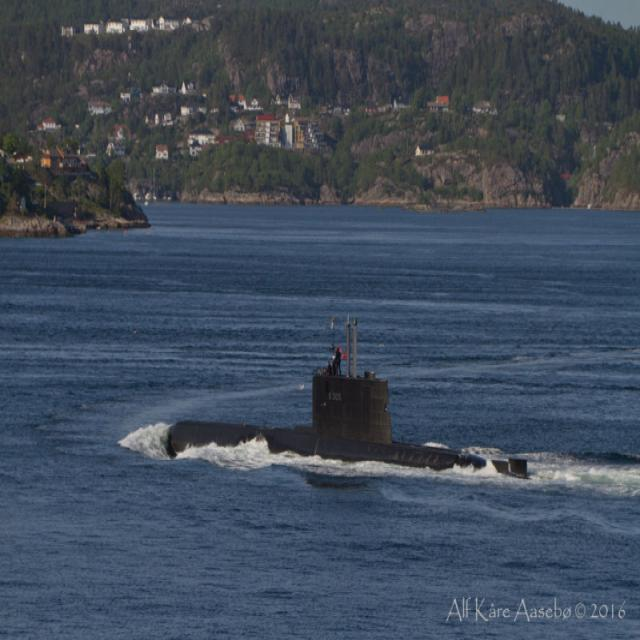submarine: (162, 313, 539, 485)
